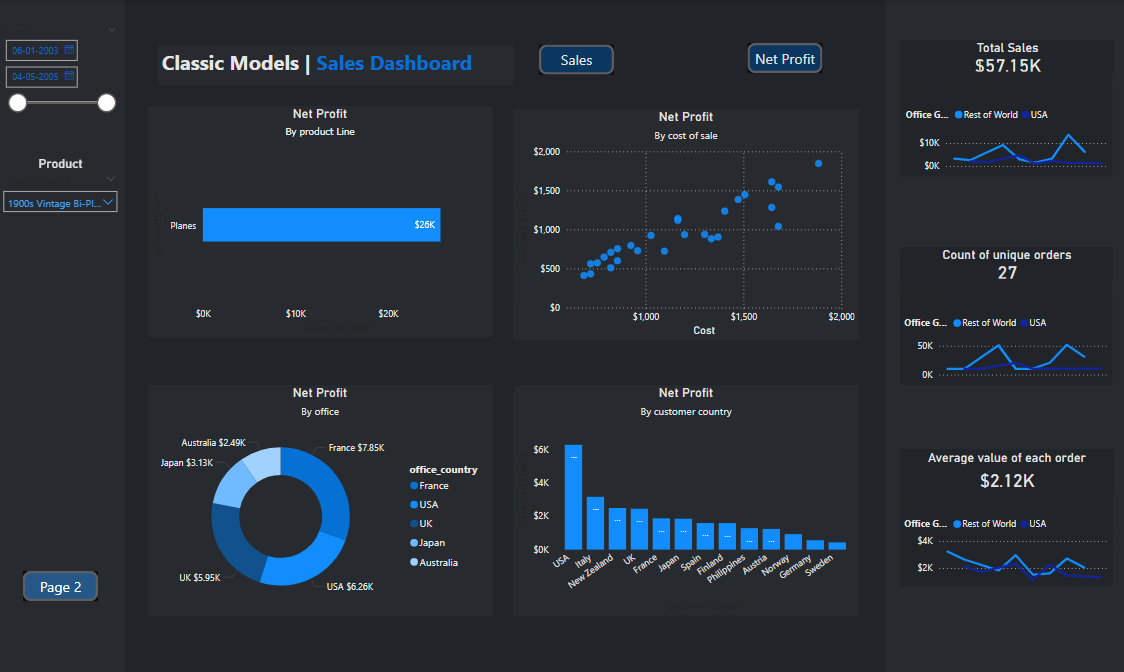

What the dashboard file says about the page in this screenshot:
{"tool":"powerbi","page":{"name":"Sales Overview-Page 1","canvas":[1500,900],"ordinal":0},"visuals":[{"type":"shape","box":[0,0,171,900.7],"z":0},{"type":"shape","box":[1179,0,320.1,900.7],"z":1000},{"type":"shape","box":[1198.9,55.7,280.3,180.9],"z":2000},{"type":"shape","box":[1198.9,330.1,280.3,180.9],"z":3000},{"type":"shape","box":[1200.9,598.5,280.3,180.9],"z":4000},{"type":"card","title":"Total Sales","fields":{"Values":["Sum(classicmodels sales_data_for_power_bi.sales_value)"]},"box":[1200.9,55.7,280.3,45.7],"z":5000},{"type":"card","title":"Count of unique orders","fields":{"Values":["Count(classicmodels sales_data_for_power_bi.ordernumber)"]},"box":[1198.9,330.1,282.3,45.7],"z":6000},{"type":"card","title":"Average value of each order","fields":{"Values":["classicmodels sales_data_for_power_bi.Average Sales Value per Order"]},"box":[1198.9,598.5,282.3,59.6],"z":7000},{"type":"lineChart","title":" Office Grouped","fields":{"Category":["classicmodels sales_data_for_power_bi.orderdate.Variation.Date Hierarchy.Year","classicmodels sales_data_for_power_bi.orderdate.Variation.Date Hierarchy.Quarter","classicmodels sales_data_for_power_bi.orderdate.Variation.Date Hierarchy.Month"],"Y":["Sum(classicmodels sales_data_for_power_bi.sales_value)"],"Series":["classicmodels sales_data_for_power_bi.Office Grouped"]},"box":[1200.9,115.3,278.4,121.3],"z":8000},{"type":"lineChart","title":" Office","fields":{"Category":["classicmodels sales_data_for_power_bi.orderdate.Variation.Date Hierarchy.Year","classicmodels sales_data_for_power_bi.orderdate.Variation.Date Hierarchy.Quarter","classicmodels sales_data_for_power_bi.orderdate.Variation.Date Hierarchy.Month"],"Series":["classicmodels sales_data_for_power_bi.Office Grouped"],"Y":["Sum(classicmodels sales_data_for_power_bi.ordernumber)"]},"box":[1198.9,391.7,280.3,121.3],"z":9000},{"type":"lineChart","title":" Office","fields":{"Category":["classicmodels sales_data_for_power_bi.orderdate.Variation.Date Hierarchy.Year","classicmodels sales_data_for_power_bi.orderdate.Variation.Date Hierarchy.Quarter","classicmodels sales_data_for_power_bi.orderdate.Variation.Date Hierarchy.Month"],"Series":["classicmodels sales_data_for_power_bi.Office Grouped"],"Y":["classicmodels sales_data_for_power_bi.Average Sales Value per Order"]},"box":[1198.9,658.1,280.3,121.3],"z":10000},{"type":"scatterChart","fields":{"Y":["Table.Selected Metric"],"X":["Sum(classicmodels sales_data_for_power_bi.cost_of_sales)"],"Category":["classicmodels sales_data_for_power_bi.ordernumber"]},"box":[686,147.1,457.3,306.2],"z":11000},{"type":"actionButton","box":[719.8,61.6,99.4,39.8],"z":12000},{"type":"actionButton","box":[996.1,59.6,99.4,39.8],"z":13000},{"type":"donutChart","fields":{"Y":["Table.Selected Metric"],"Category":["classicmodels sales_data_for_power_bi.office_country"]},"box":[200.8,513,457.3,306.2],"z":15000},{"type":"clusteredBarChart","fields":{"Y":["Table.Selected Metric"],"Category":["classicmodels sales_data_for_power_bi.productLine"]},"box":[200.8,143.2,457.3,306.2],"z":16000},{"type":"columnChart","fields":{"Y":["Table.Selected Metric"],"Category":["classicmodels sales_data_for_power_bi.customer_country"]},"box":[686,513,457.3,306.2],"z":17000},{"type":"textbox","box":[214.7,61.6,471.2,53.7],"z":18000},{"type":"actionButton","box":[35.8,759.5,99.4,39.8],"z":19000},{"type":"slicer","fields":{"Values":["classicmodels sales_data_for_power_bi.orderdate"]},"box":[0,31.8,171,145.1],"z":20000},{"type":"slicer","title":"Product","fields":{"Values":["classicmodels sales_data_for_power_bi.productName"]},"box":[0,208.8,171,145.1],"z":21000}]}

Visuals, with their boxes in screenshot pixels (x1, y1, x2, y2), scaled from the page's 1500x900 canvas onto the 1124x672 screenshot:
shape: region(0, 0, 128, 671)
shape: region(883, 0, 1123, 671)
shape: region(898, 42, 1108, 177)
shape: region(898, 246, 1108, 382)
shape: region(900, 447, 1110, 582)
"Total Sales" card: region(900, 42, 1110, 76)
"Count of unique orders" card: region(898, 246, 1110, 281)
"Average value of each order" card: region(898, 447, 1110, 491)
" Office Grouped" lineChart: region(900, 86, 1108, 177)
" Office" lineChart: region(898, 292, 1108, 383)
" Office" lineChart: region(898, 491, 1108, 582)
scatterChart - Table.Selected Metric x Sum(classicmodels sales_data_for_power_bi.cost_of_sales): region(514, 110, 857, 338)
actionButton: region(539, 46, 614, 76)
actionButton: region(746, 45, 821, 74)
donutChart - Table.Selected Metric x classicmodels sales_data_for_power_bi.office_country: region(150, 383, 493, 612)
clusteredBarChart - Table.Selected Metric x classicmodels sales_data_for_power_bi.productLine: region(150, 107, 493, 336)
columnChart - Table.Selected Metric x classicmodels sales_data_for_power_bi.customer_country: region(514, 383, 857, 612)
textbox: region(161, 46, 514, 86)
actionButton: region(27, 567, 101, 597)
slicer - classicmodels sales_data_for_power_bi.orderdate: region(0, 24, 128, 132)
"Product" slicer: region(0, 156, 128, 264)
